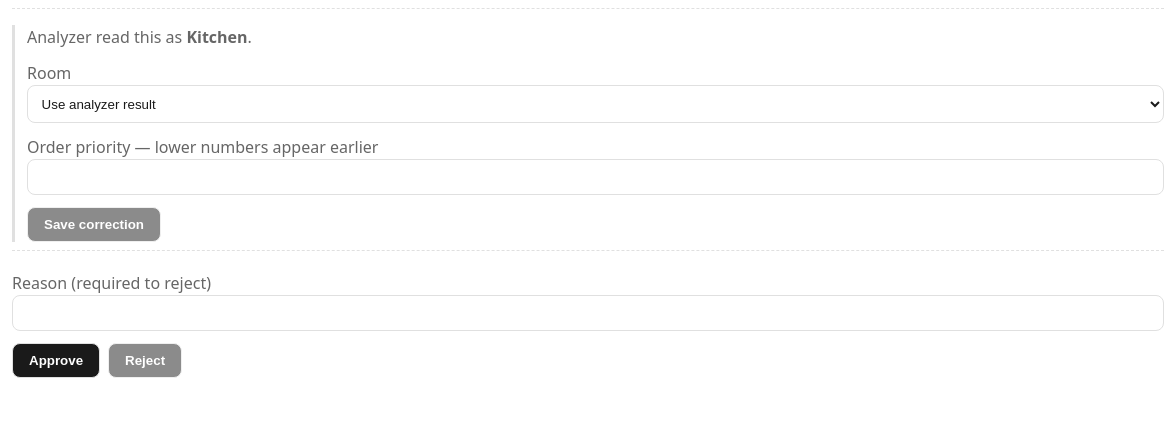
Test: unsaved corrections block the review decision › blocks approve and reject once the room is edited
Type "looks fine" into the field named "Reason for a.jpg" at point(588, 313), box [12, 295, 1164, 331]
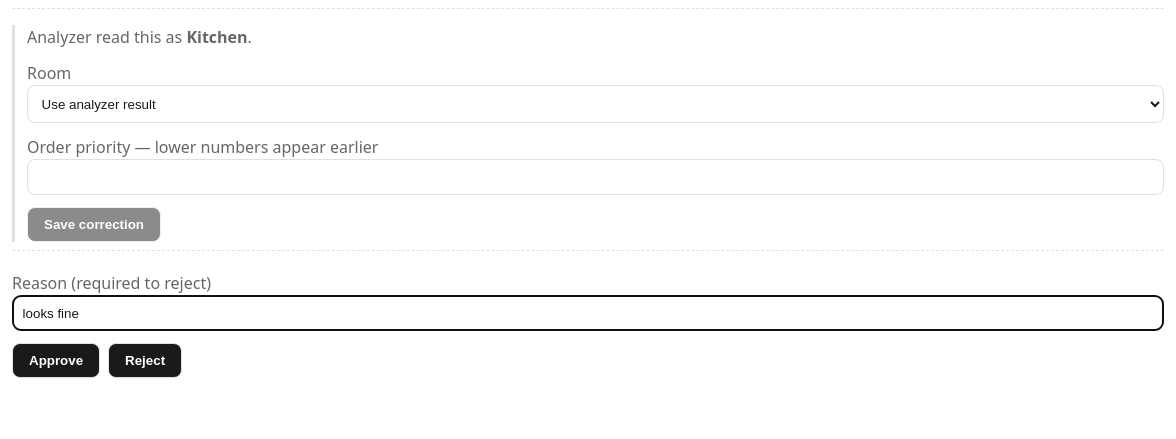
Now the button "Reject" is enabled, box [108, 343, 182, 378]
Select "Balcony" in the dropdown named "Room for a.jpg" at point(596, 104), box [27, 85, 1164, 123]
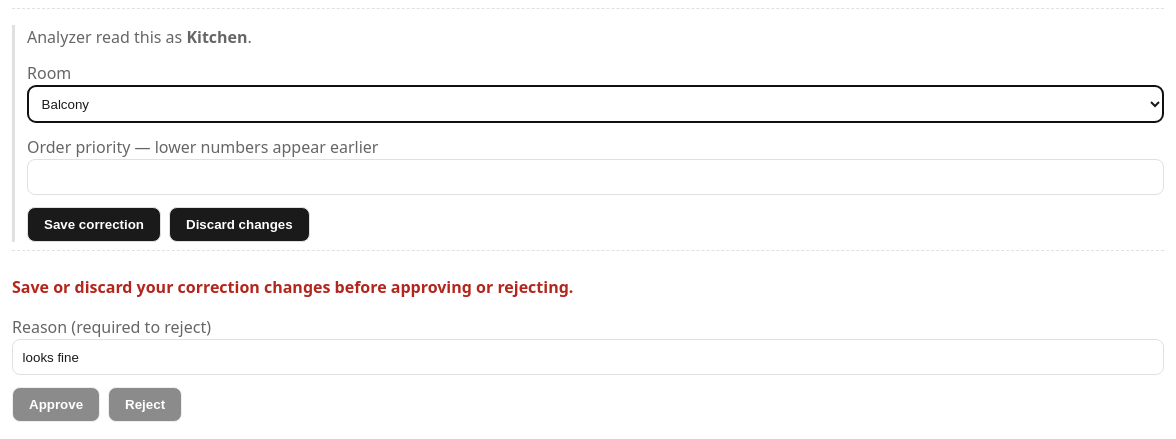
Now the button "Approve" is disabled, box [12, 387, 100, 422]
Now the button "Reject" is disabled, box [108, 387, 182, 422]
Now the text "Save or discard your correction changes" is shown, box [12, 276, 573, 298]
